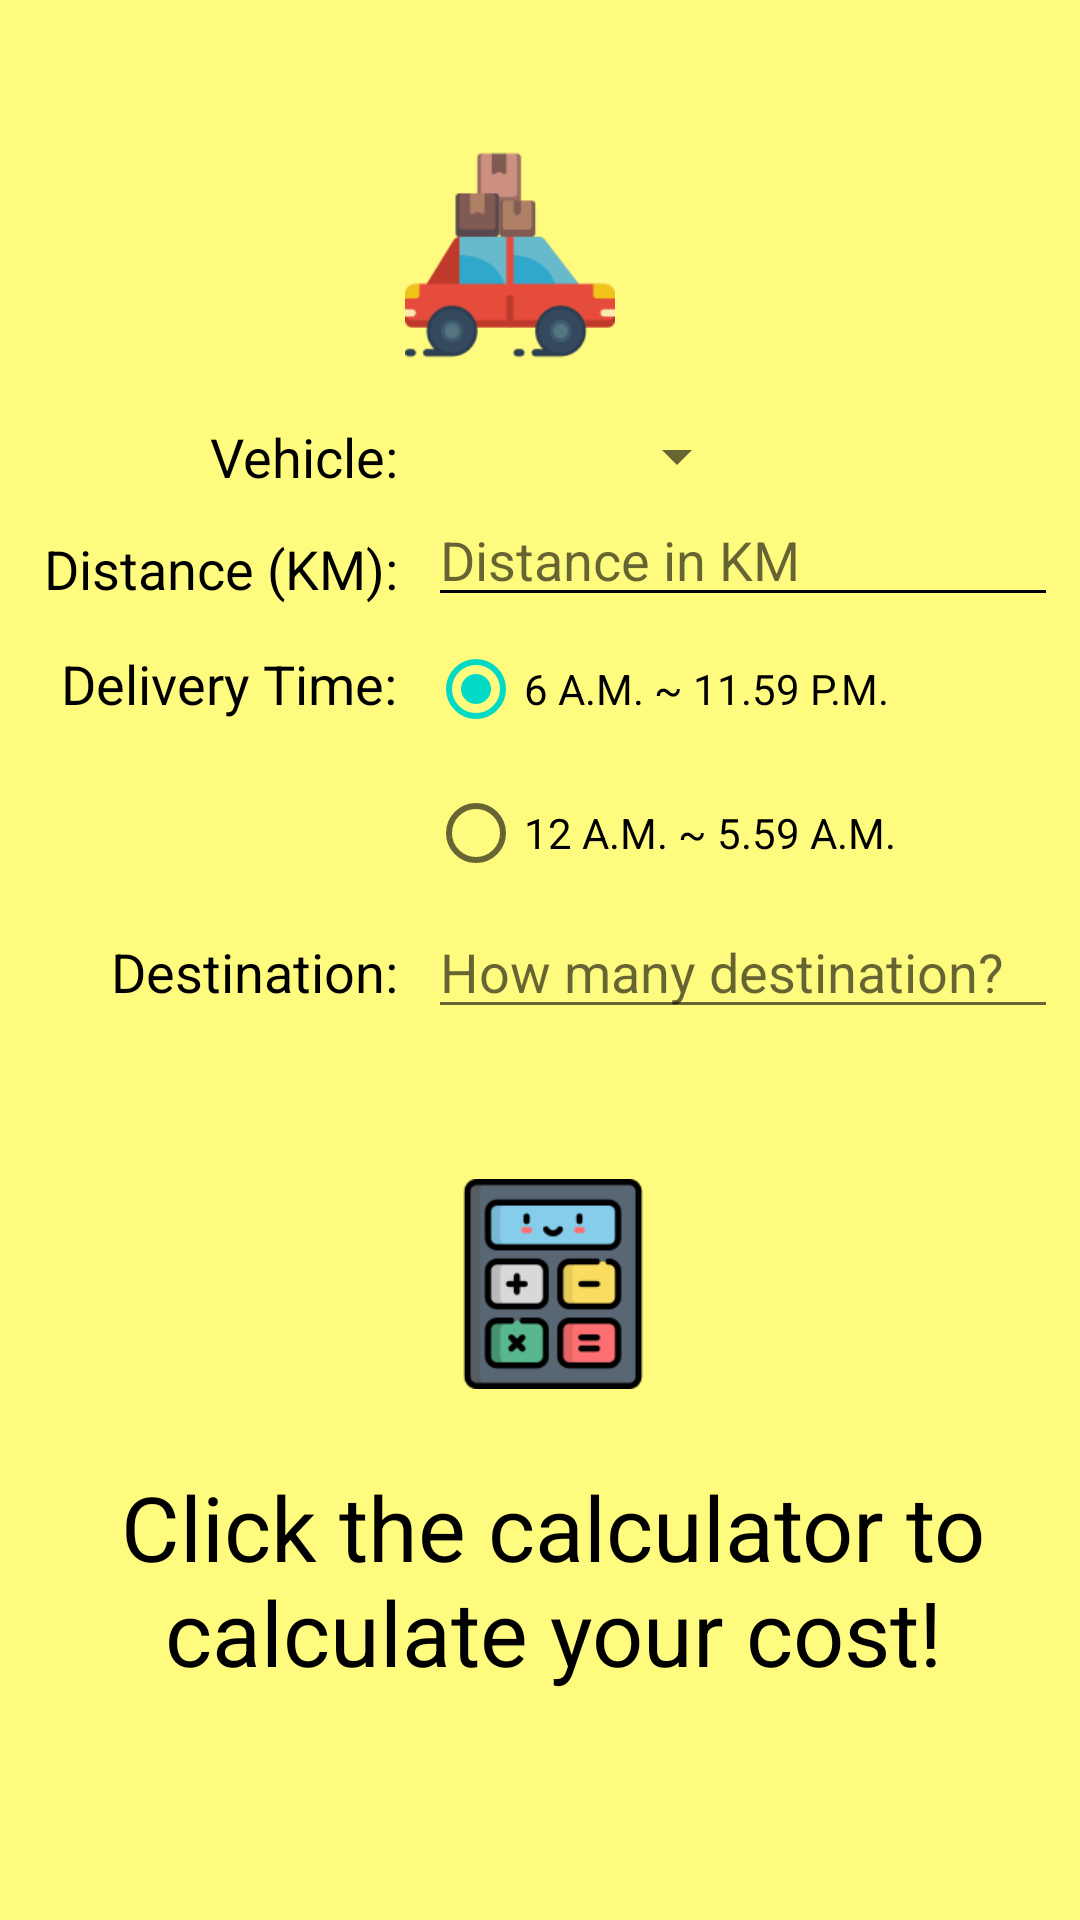

Named icons in this screenshot (1080×1920) and their centers, [x,y]:
car: [510,255]
